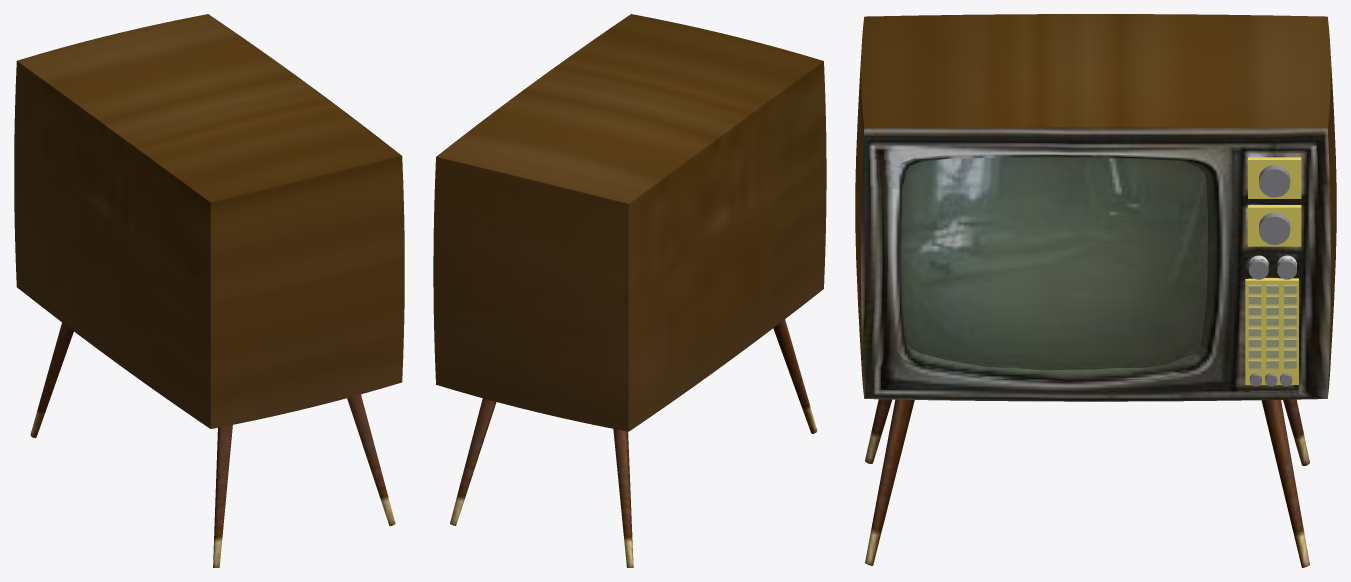
3 renders of one model, left to right at view 1: azimuth 30°, elevation 25°; view 2: azimuth 150°, elevation 25°; view 3: azimuth 270°, elevation 25°, orthographic. The views are drawn at different scales.
Visible parts, largest first — view 1: Cube, Cylinder; view 2: Cube, Cylinder; view 3: Cube, Cylinder, Cube.005, Cube.003, Cube.001, Cube.002, Cylinder.001, Cylinder.002.
Boxes of the visible parts, <box> form: Cube: <box>14,14,404,428</box>; Cylinder: <box>30,322,395,567</box>; Cube: <box>433,14,826,431</box>; Cylinder: <box>450,319,817,567</box>; Cube: <box>855,14,1336,401</box>; Cylinder: <box>865,399,1309,567</box>; Cube.005: <box>1248,284,1296,368</box>; Cube.003: <box>1245,278,1298,384</box>; Cube.001: <box>1248,157,1301,198</box>; Cube.002: <box>1248,205,1301,246</box>; Cylinder.001: <box>1259,165,1290,197</box>; Cylinder.002: <box>1259,212,1290,244</box>.
Bounding box in the file's own units: 2.18 × 3.76 × 3.65.
5 materials, 2 textured.
